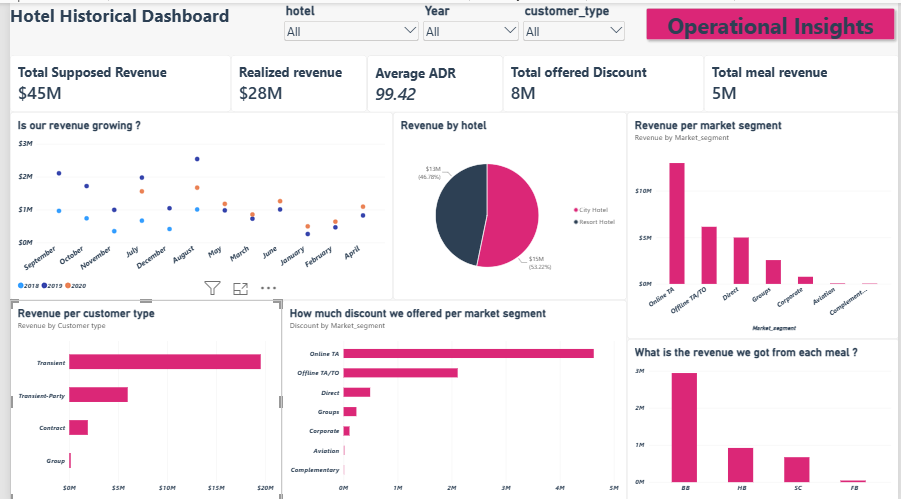

The page's visual inventory and layout, read from the dashboard file:
{"tool":"powerbi","page":{"name":"Revenue","canvas":[1920,1080],"ordinal":0},"visuals":[{"type":"cardVisual","fields":{"Data":["Sum(Hotel_revenue_historical.Revenue)"]},"box":[477.4,112.3,293.8,123.1],"z":0},{"type":"cardVisual","fields":{"Data":["Avg(Hotel_revenue_historical.adr)"]},"box":[771.1,112.3,293.8,123.1],"z":1000},{"type":"cardVisual","fields":{"Data":["Sum(Hotel_revenue_historical.Discount)"]},"box":[1064.9,112.3,434.2,123.1],"z":2000},{"type":"cardVisual","fields":{"Data":["Sum(Hotel_revenue_historical.Meal cost)"]},"box":[1499,112.3,421.2,123.1],"z":3000},{"type":"textbox","box":[0,0,527,67],"z":4000},{"type":"slicer","fields":{"Values":["Hotel_revenue_historical.arrival_date_year"]},"box":[887.8,0,216,88.6],"z":5000},{"type":"columnChart","title":"Revenue per market segment","fields":{"Category":["Hotel_revenue_historical.market_segment"],"Y":["Sum(Hotel_revenue_historical.Revenue)"]},"box":[1332.7,235.4,587.5,490.3],"z":6000},{"type":"barChart","title":"How much discount we offered per market segment","fields":{"Category":["Hotel_revenue_historical.market_segment"],"Y":["Sum(Hotel_revenue_historical.Discount)"]},"box":[587.5,641.5,745.2,438.5],"z":7000},{"type":"barChart","title":"Revenue per customer type","fields":{"Category":["Hotel_revenue_historical.customer_type"],"Y":["Sum(Hotel_revenue_historical.Revenue)"]},"box":[0,641.5,587.5,438.5],"z":8000},{"type":"columnChart","title":"What is the revenue we got from each meal ?","fields":{"Category":["Hotel_revenue_historical.meal"],"Y":["Sum(Hotel_revenue_historical.Meal cost)"]},"box":[1332.7,725.8,587.5,354.2],"z":9000},{"type":"pieChart","title":"Revenue by hotel","fields":{"Category":["Hotel_revenue_historical.hotel"],"Y":["Sum(Hotel_revenue_historical.Revenue)"]},"box":[827.3,235.4,505.4,406.1],"z":10000},{"type":"slicer","fields":{"Values":["Hotel_revenue_historical.hotel"]},"box":[587.5,0,300.2,112.3],"z":11000},{"type":"scatterChart","title":"Is our revenue growing ?","fields":{"X":["Hotel_revenue_historical.arrival_date_month"],"Series":["Hotel_revenue_historical.arrival_date_year"],"Y":["Sum(Hotel_revenue_historical.Revenue)"]},"box":[0,235.4,827.3,406.1],"z":12000},{"type":"actionButton","box":[1365.1,2.2,555.1,86.4],"z":13000},{"type":"slicer","fields":{"Values":["Hotel_revenue_historical.customer_type"]},"box":[1103.8,0,229,112.3],"z":14000},{"type":"cardVisual","fields":{"Data":["Sum(Hotel_revenue_historical.Toal Revenue)"]},"box":[0,112.3,477.4,123.1],"z":15000}]}

Visuals, with their boxes in screenshot pixels (x1, y1, x2, y2), scaled from the page's 1920x1080 canvas onto the 901x499 screenshot:
cardVisual - Sum(Hotel_revenue_historical.Revenue): Rect(224, 52, 362, 109)
cardVisual - Avg(Hotel_revenue_historical.adr): Rect(362, 52, 500, 109)
cardVisual - Sum(Hotel_revenue_historical.Discount): Rect(500, 52, 703, 109)
cardVisual - Sum(Hotel_revenue_historical.Meal cost): Rect(703, 52, 900, 109)
textbox: Rect(0, 0, 247, 31)
slicer - Hotel_revenue_historical.arrival_date_year: Rect(417, 0, 518, 41)
"Revenue per market segment" columnChart: Rect(625, 109, 900, 335)
"How much discount we offered per market segment" barChart: Rect(276, 296, 625, 498)
"Revenue per customer type" barChart: Rect(0, 296, 276, 498)
"What is the revenue we got from each meal ?" columnChart: Rect(625, 335, 900, 498)
"Revenue by hotel" pieChart: Rect(388, 109, 625, 296)
slicer - Hotel_revenue_historical.hotel: Rect(276, 0, 417, 52)
"Is our revenue growing ?" scatterChart: Rect(0, 109, 388, 296)
actionButton: Rect(641, 1, 900, 41)
slicer - Hotel_revenue_historical.customer_type: Rect(518, 0, 625, 52)
cardVisual - Sum(Hotel_revenue_historical.Toal Revenue): Rect(0, 52, 224, 109)
